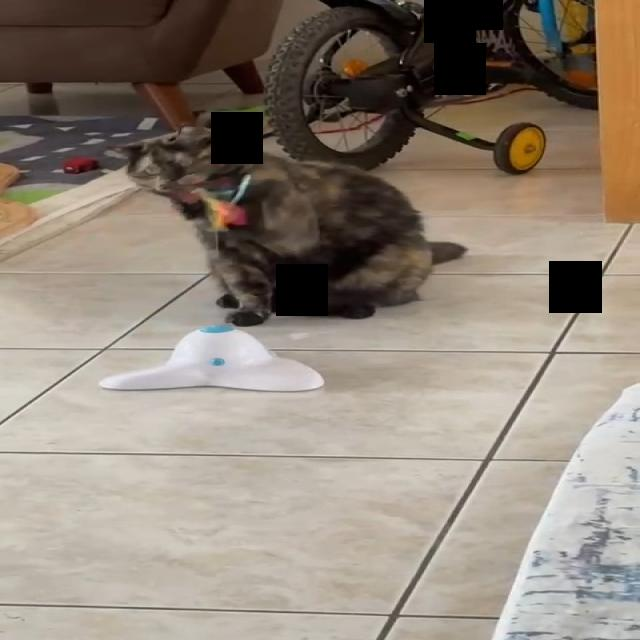authorized: (104, 124, 468, 326)
